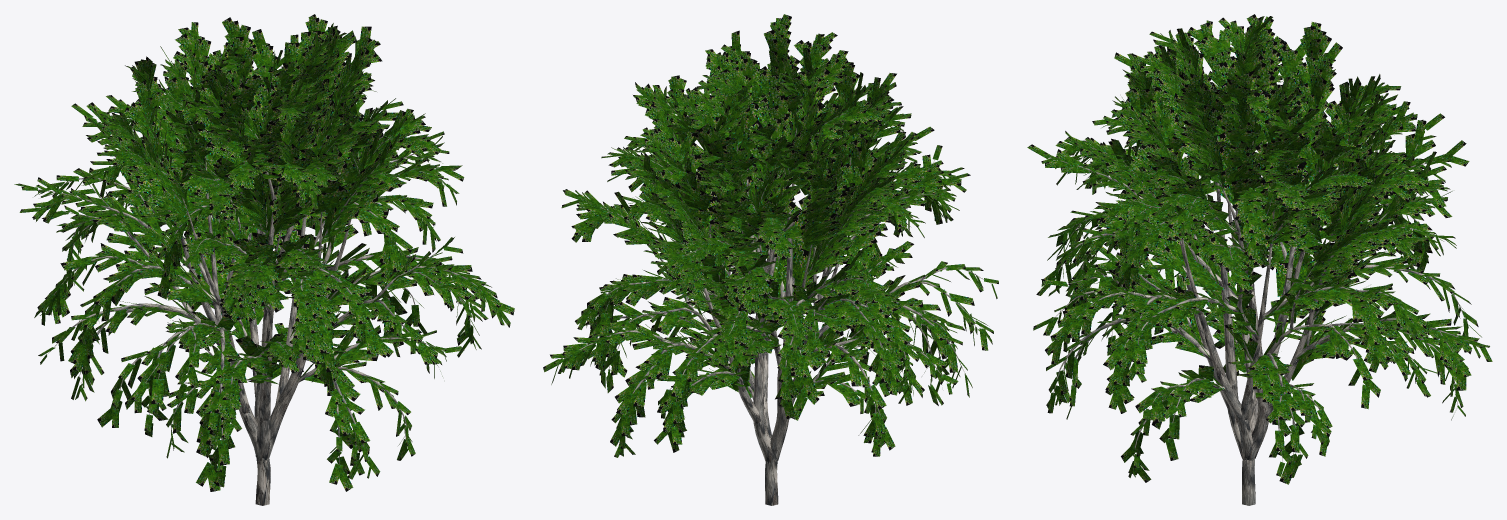
Rendered from Trees.fbx.
The picture shows the model from 3 angles, left to right: view 1: azimuth 30°, elevation 25°; view 2: azimuth 150°, elevation 25°; view 3: azimuth 270°, elevation 25°; orthographic projection. The views are drawn at different scales.
Parts seen in each view (by area): view 1: Ericleaves_LOD0, Erictree_LOD0; view 2: Ericleaves_LOD0, Erictree_LOD0; view 3: Ericleaves_LOD0, Erictree_LOD0.
Part boxes in pixels (bbox=[...]): Ericleaves_LOD0: bbox=[14, 14, 514, 491]; Erictree_LOD0: bbox=[38, 57, 481, 505]; Ericleaves_LOD0: bbox=[543, 14, 998, 457]; Erictree_LOD0: bbox=[563, 65, 991, 505]; Ericleaves_LOD0: bbox=[1027, 14, 1492, 484]; Erictree_LOD0: bbox=[1050, 34, 1468, 505].
Size of what is drawn, in the model's own units: 561 by 676 by 590.
